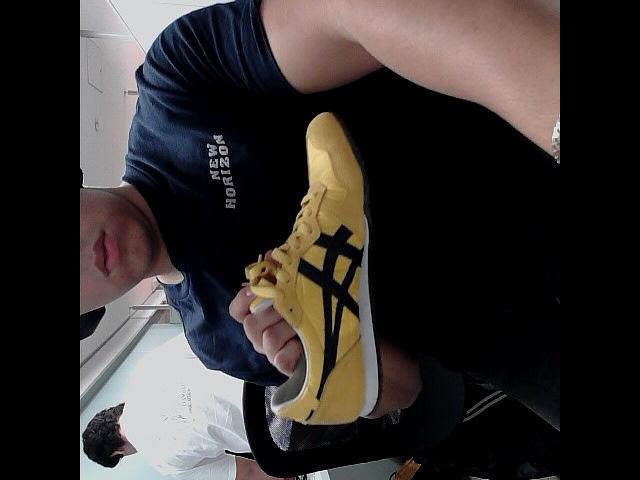Shoes: (248, 104, 376, 422)
